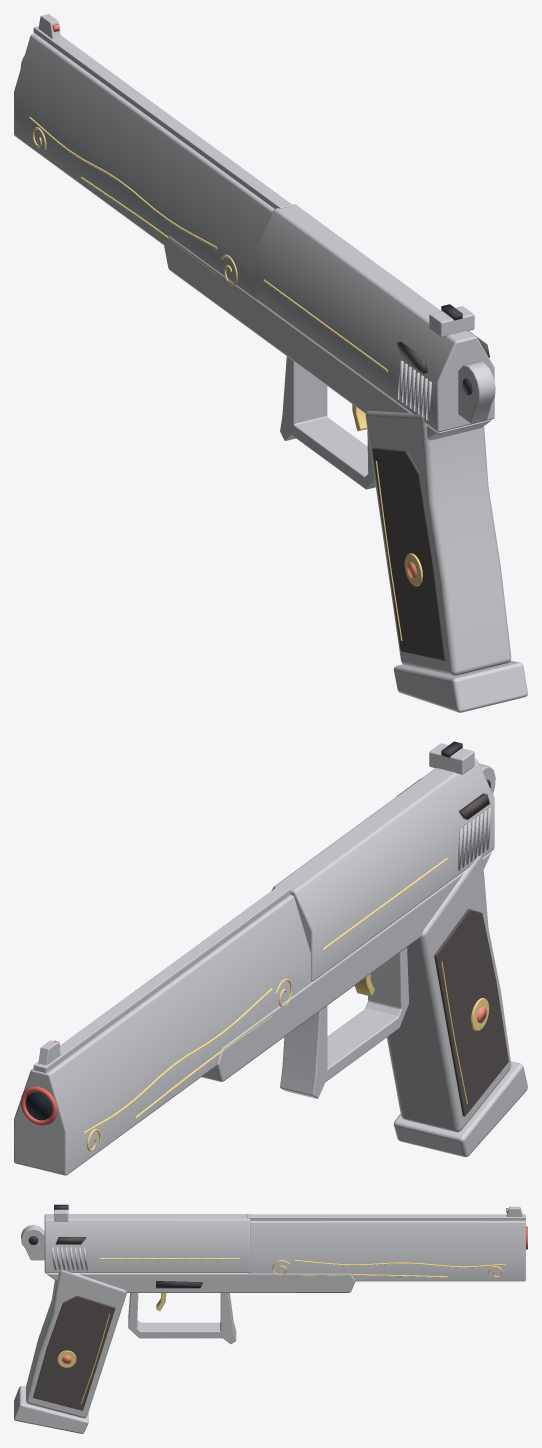
The model's file is rivet_cannon.glb.
3 views of the same model, one above another, from view 1: azimuth 30°, elevation 25°; view 2: azimuth 150°, elevation 25°; view 3: azimuth 270°, elevation 25° (orthographic). The views are drawn at different scales.
Parts seen in each view (by area): view 1: Frame, Barrel, Slide, MagBase; view 2: Frame, Barrel, Slide, MagBase; view 3: Barrel, Frame, Slide, MagBase.
Part boxes in pixels (x1,y1,x2,y2): Frame: (164, 236, 511, 675); Barrel: (14, 14, 292, 299); Slide: (256, 204, 495, 432); MagBase: (393, 660, 527, 712); Frame: (201, 851, 511, 1132); Barrel: (14, 884, 312, 1175); Slide: (271, 741, 495, 981); MagBase: (393, 1061, 527, 1157); Barrel: (247, 1206, 527, 1281); Frame: (26, 1269, 355, 1418); Slide: (21, 1204, 250, 1272); MagBase: (14, 1386, 88, 1433).
Bounding box in the file's own units: 0.04 × 0.2084 × 0.4435.
